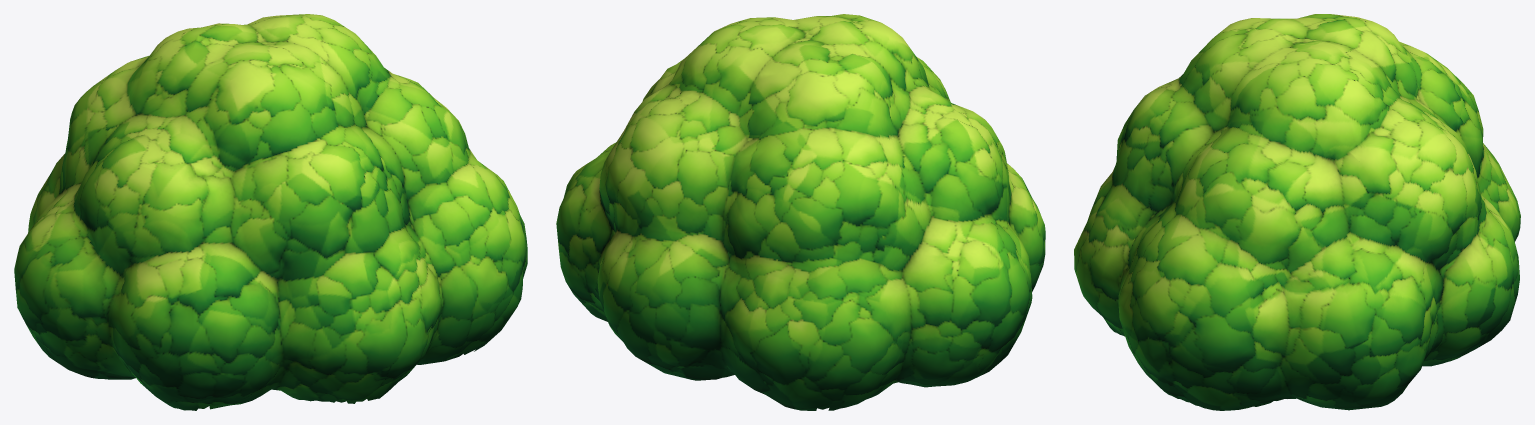
Rendered from bush_round_small.glb.
3 views of the same model, side by side, from view 1: azimuth 30°, elevation 25°; view 2: azimuth 150°, elevation 25°; view 3: azimuth 270°, elevation 25° (orthographic). The views are drawn at different scales.
Visible parts, largest first — view 1: bush_round_small; view 2: bush_round_small; view 3: bush_round_small.
Boxes of the visible parts, <box> form: bush_round_small: <box>14,14,527,410</box>; bush_round_small: <box>556,14,1045,410</box>; bush_round_small: <box>1074,14,1520,410</box>.
Bounding box in the file's own units: 1.42 × 0.9022 × 1.26.
Materials: 1 (1 with a texture image).
